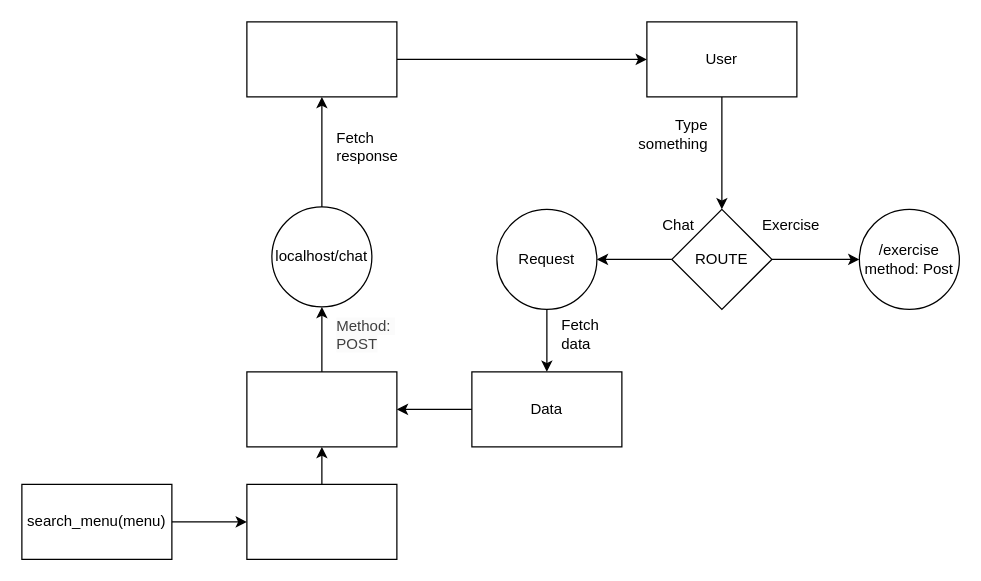
Image size: 981x581. Some labels were removed from this diagram. The shapes that lost their labels are listed below. From the top down, each one's centre as x and y in pixels, then its label:
the point at 321,59: Response
the point at 321,409: get_reply
the point at 321,521: MODEL AI "gemini-2.5-flash"
